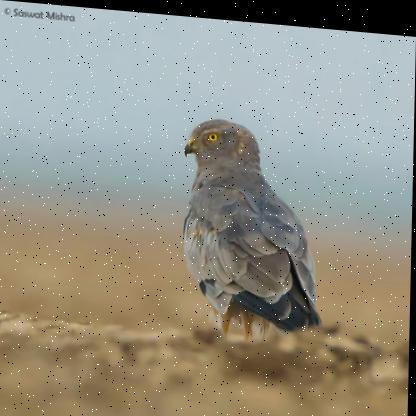Burung: (178, 111, 338, 343)
